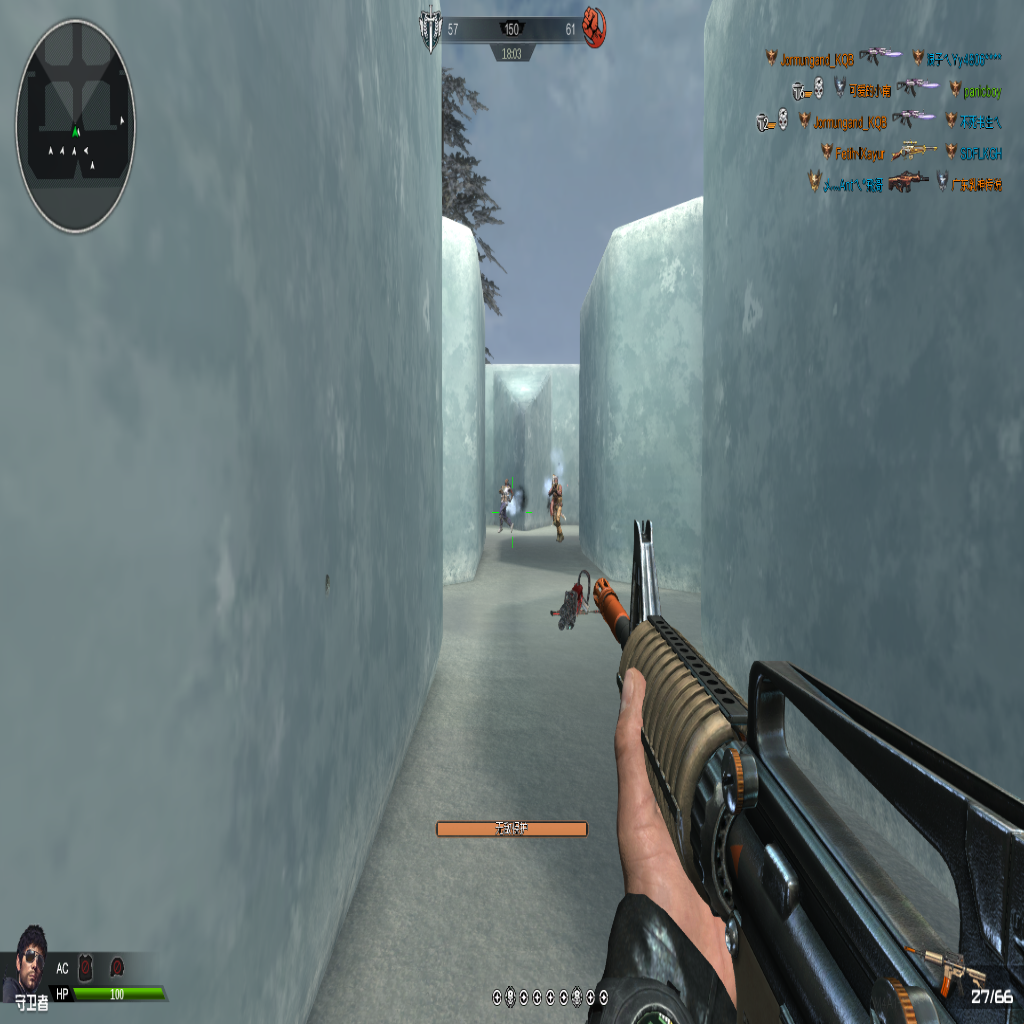tt: (549, 471, 563, 540)
